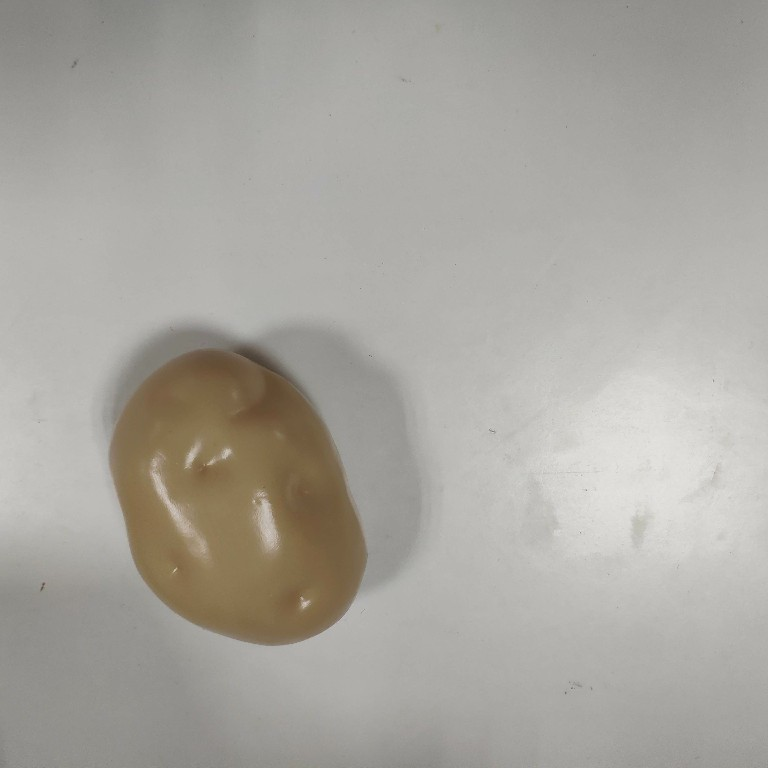fruit_potato: (108, 344, 373, 652)
